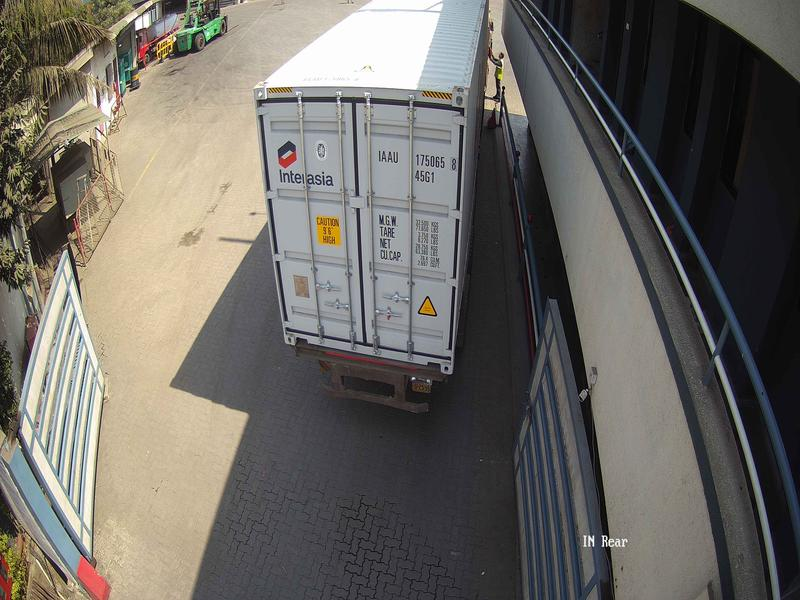container: (244, 76, 487, 374)
